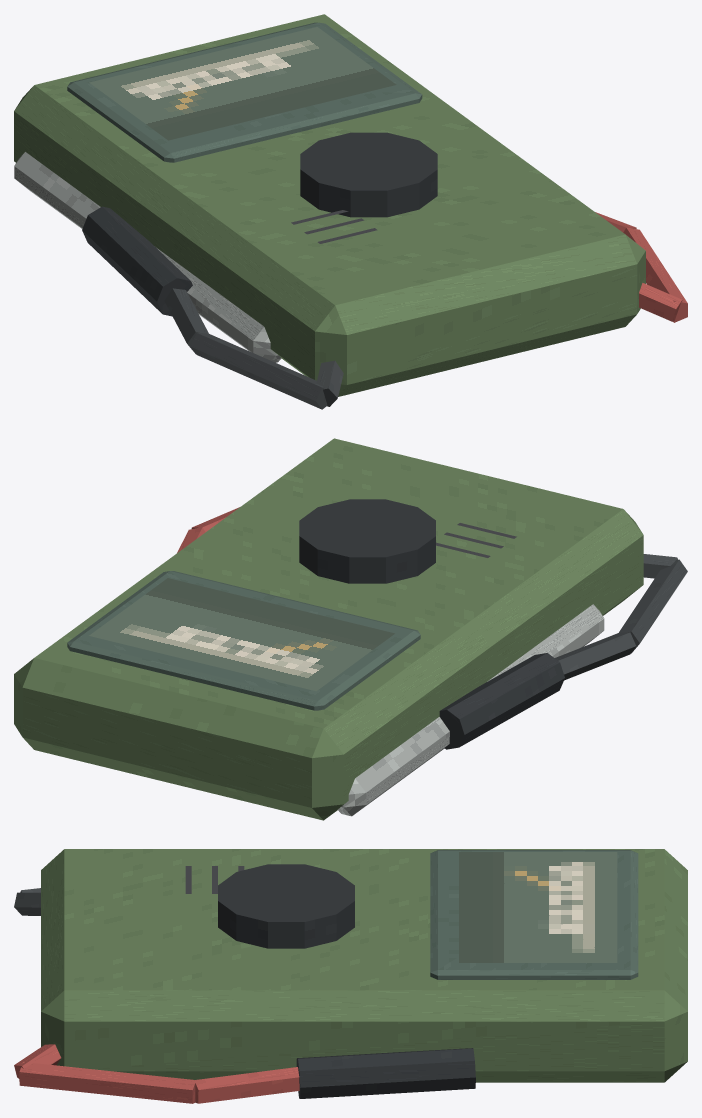
The model's file is geiger_off.glb.
3 views of the same model, one above another, from view 1: azimuth 30°, elevation 25°; view 2: azimuth 150°, elevation 25°; view 3: azimuth 270°, elevation 25° (orthographic).
Visible parts, largest first — view 1: block_meter case, block_display markings, block_display, block_selector, block_detector probe, block_probe body, block_probe lead 1 (×2), block_probe lead 0 (×2), block_probe lead 2; view 2: block_meter case, block_display markings, block_display, block_selector, block_detector probe, block_probe body, block_probe lead 1, block_probe lead 2; view 3: block_meter case, block_display markings, block_selector, block_display, block_probe body, block_probe lead 1, block_probe lead 2, block_probe lead 0 (×2).
Part boxes in pixels (x1,y1,x2,y2): block_meter case: [14, 14, 645, 396]; block_display markings: [89, 27, 396, 140]; block_display: [67, 22, 422, 162]; block_selector: [300, 132, 437, 217]; block_detector probe: [14, 152, 281, 362]; block_probe body: [82, 206, 192, 316]; block_probe lead 1 (×2): [190, 227, 687, 409]; block_probe lead 0 (×2): [316, 283, 682, 406]; block_probe lead 2: [164, 288, 208, 353]; block_meter case: [14, 438, 643, 820]; block_display markings: [89, 578, 394, 691]; block_display: [67, 571, 420, 710]; block_selector: [299, 499, 435, 583]; block_detector probe: [338, 604, 604, 816]; block_probe body: [439, 653, 564, 749]; block_probe lead 1: [619, 559, 687, 653]; block_probe lead 2: [555, 632, 635, 680]; block_meter case: [41, 849, 687, 1082]; block_display markings: [459, 852, 617, 962]; block_selector: [218, 864, 354, 948]; block_display: [430, 850, 638, 979]; block_probe body: [296, 1048, 475, 1098]; block_probe lead 1: [19, 1062, 196, 1103]; block_probe lead 2: [194, 1067, 299, 1103]; block_probe lead 0 (×2): [14, 892, 61, 1078].
Size of the model in its own units: 0.1179 by 0.0298 by 0.1534.
1 material, 1 textured.
